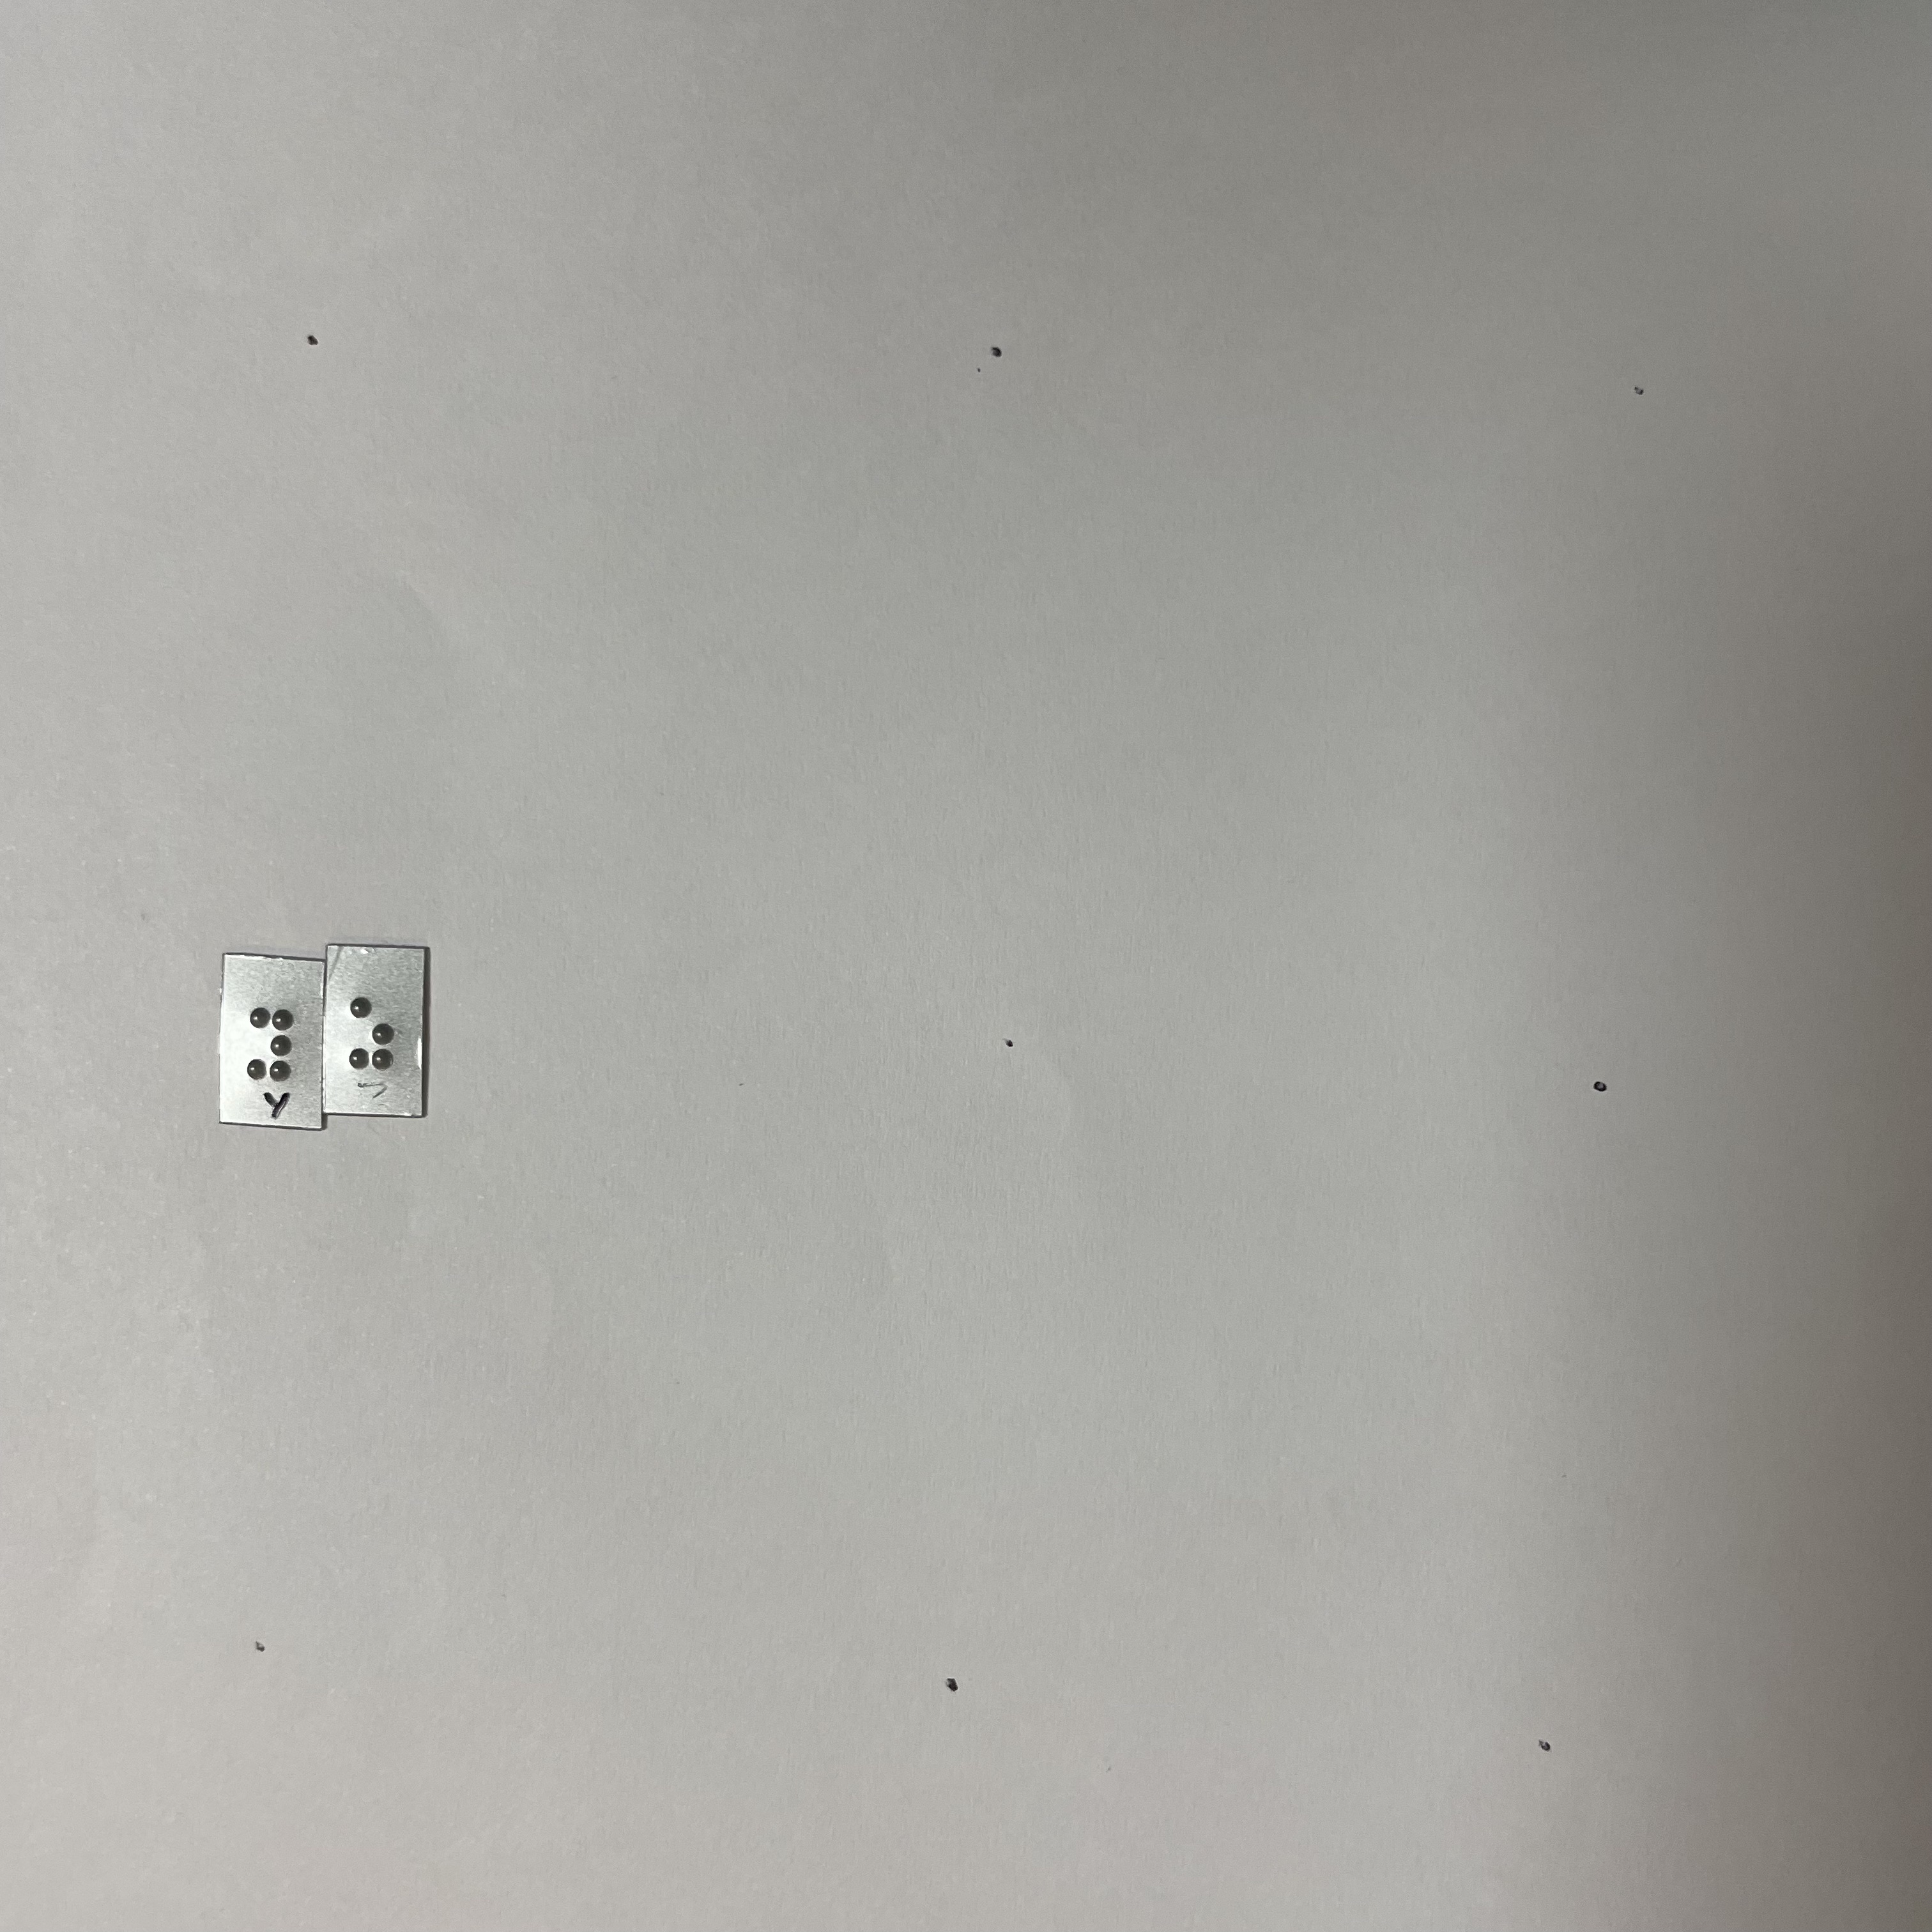y: (239, 999, 308, 1091)
z: (341, 982, 407, 1086)
